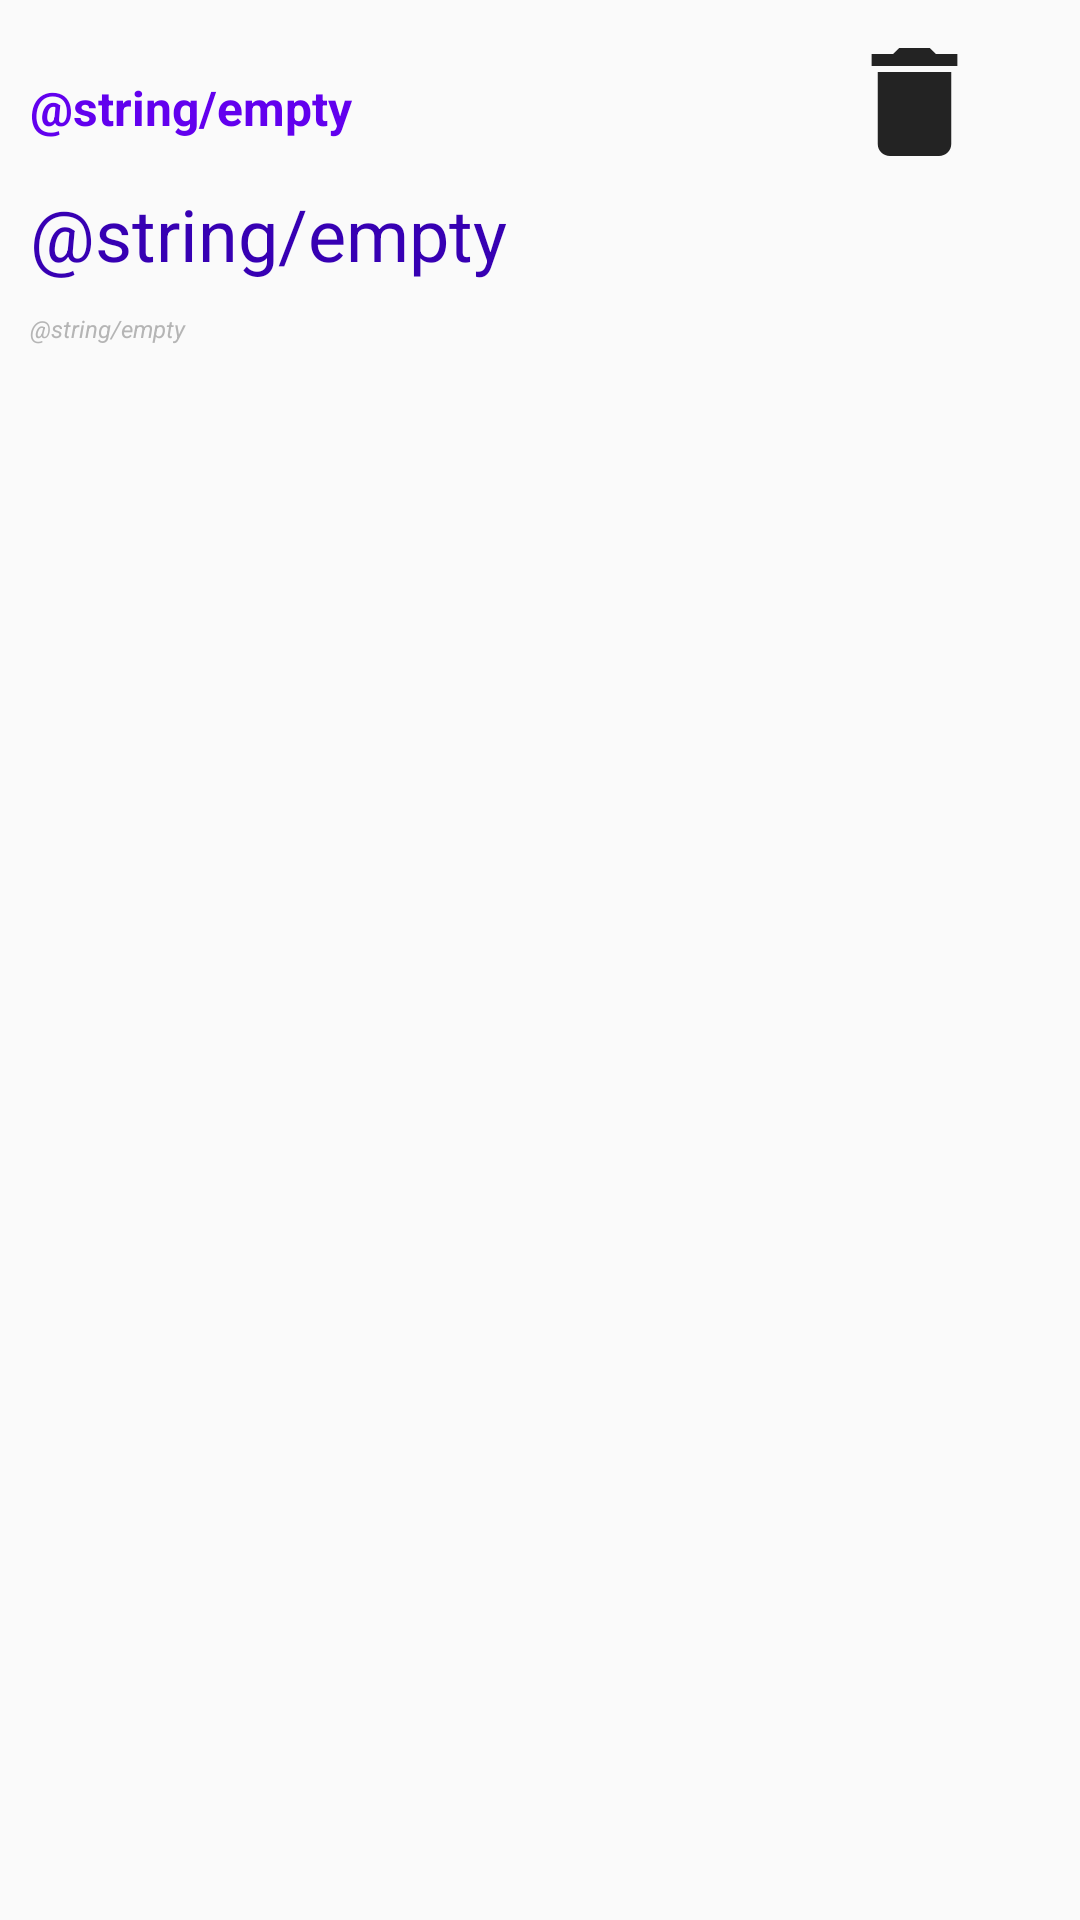

Locate icon controls on the screen. Image size 1080w x 1920h, boxes as [x1,y1,x2,y2].
delete: [871,48,958,156]
